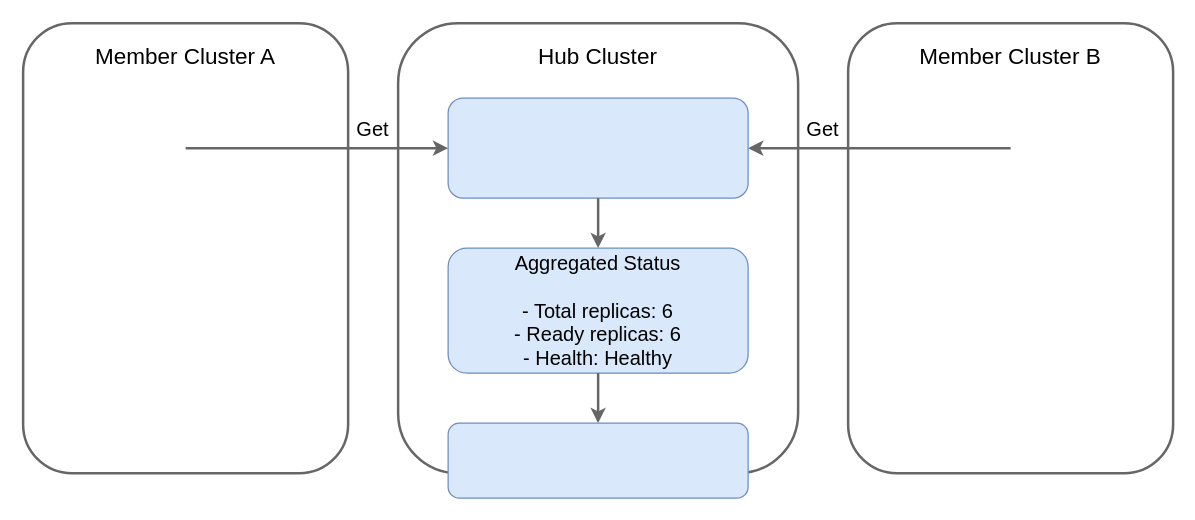
Some shapes in this 1195 by 520 pixel diagram are drawn without their labels. Here are the shapes that lost their labels. From the top down, the centre of each, then its label:
(x=597, y=147): Status Aggregator (Watch/Poll)
(x=597, y=460): Update Application Status
